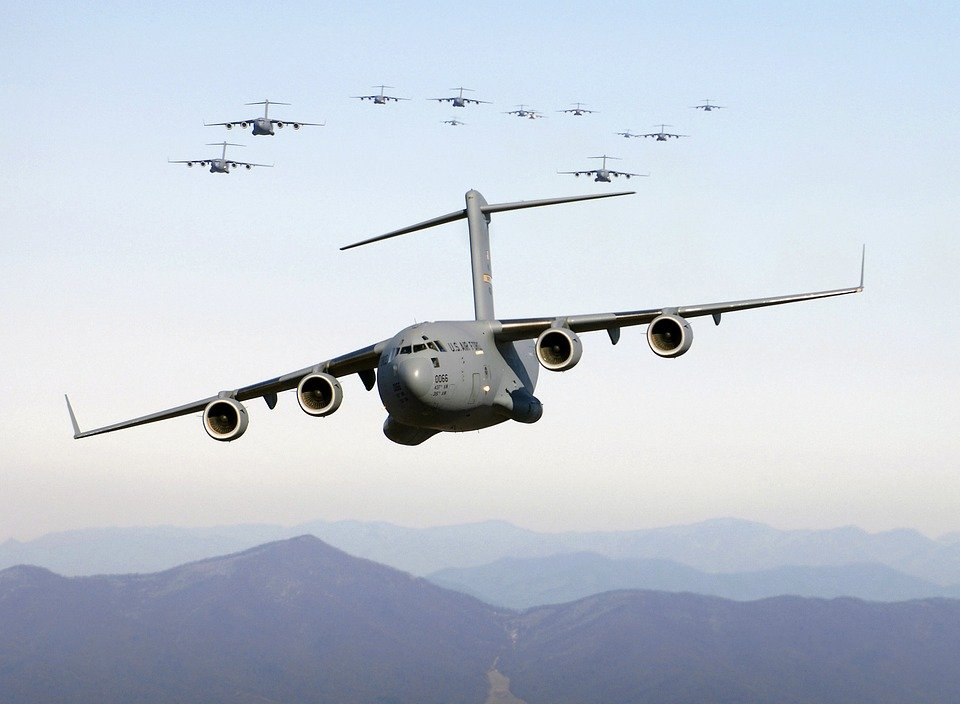Aeronef_militaire: (41, 184, 874, 458), (199, 87, 327, 141), (159, 138, 281, 181), (548, 151, 650, 189), (426, 76, 493, 111), (346, 79, 412, 108), (640, 114, 691, 149), (554, 94, 600, 121), (684, 94, 727, 117), (432, 111, 473, 133), (608, 119, 641, 144), (501, 99, 538, 118), (521, 106, 544, 122)
